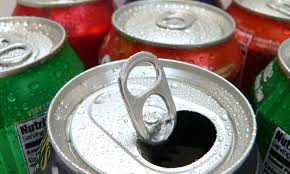can: (48, 54, 257, 173), (0, 16, 86, 173), (111, 0, 235, 45), (233, 0, 289, 19), (19, 0, 93, 6), (278, 38, 288, 74)
